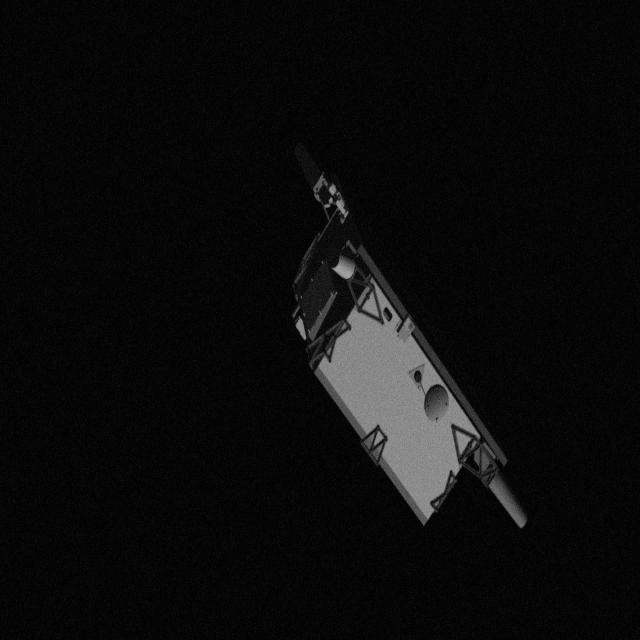medium_debris: (282, 128, 536, 536)
